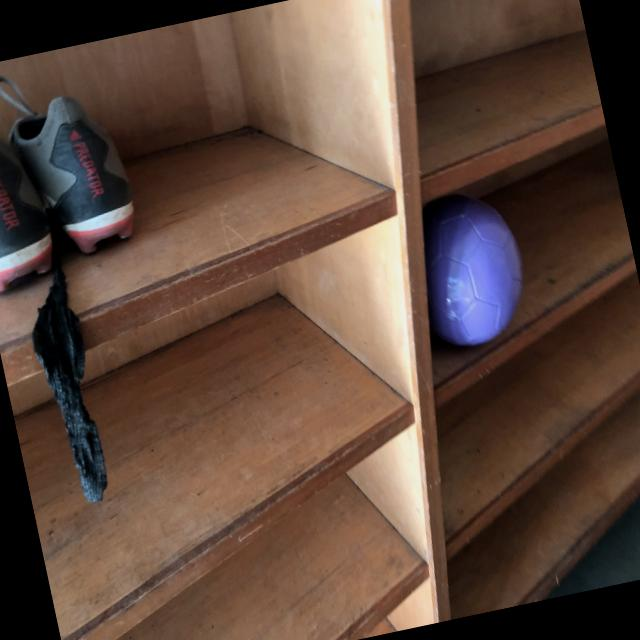purple_ball: (403, 180, 538, 354)
